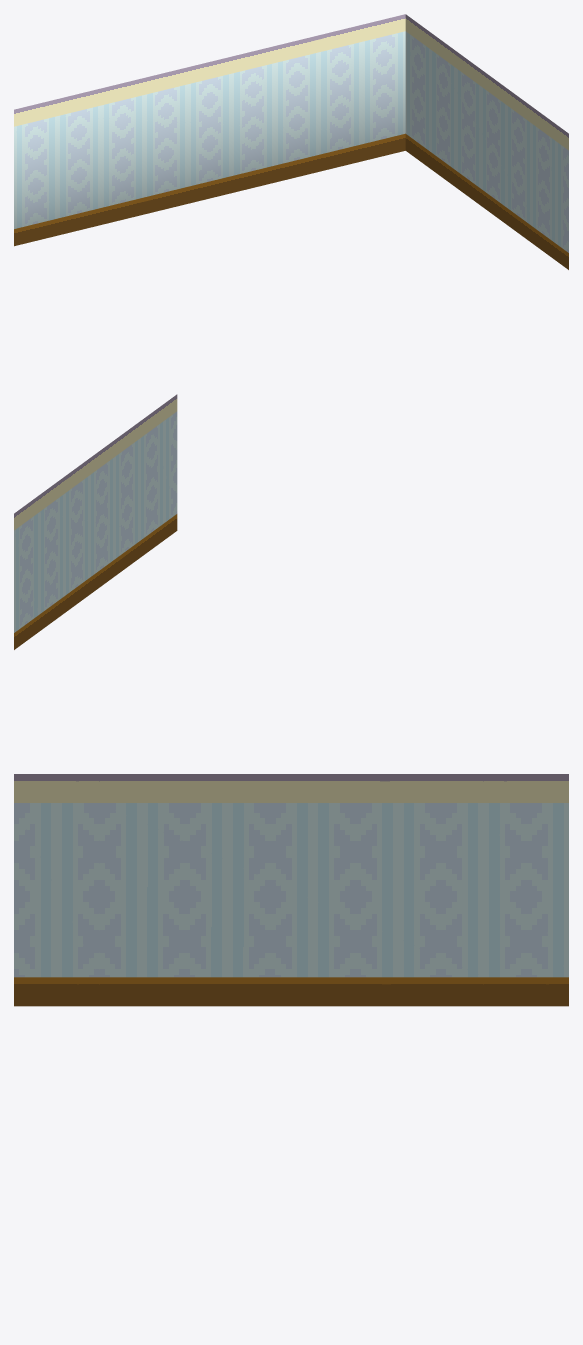
The model's file is hgss-piece-215-mur-est.glb.
3 views of the same model, one above another, from view 1: azimuth 30°, elevation 25°; view 2: azimuth 150°, elevation 25°; view 3: azimuth 270°, elevation 25° (orthographic). The views are drawn at different scales.
Size of the model in its own units: 9 by 3 by 6.5.
Materials: 2 (2 with a texture image).
